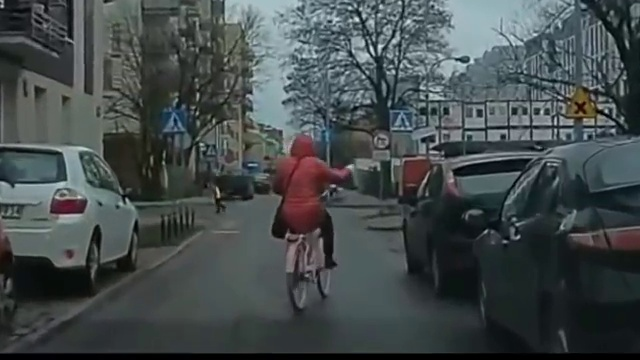cyclist_back: (270, 130, 340, 316)
